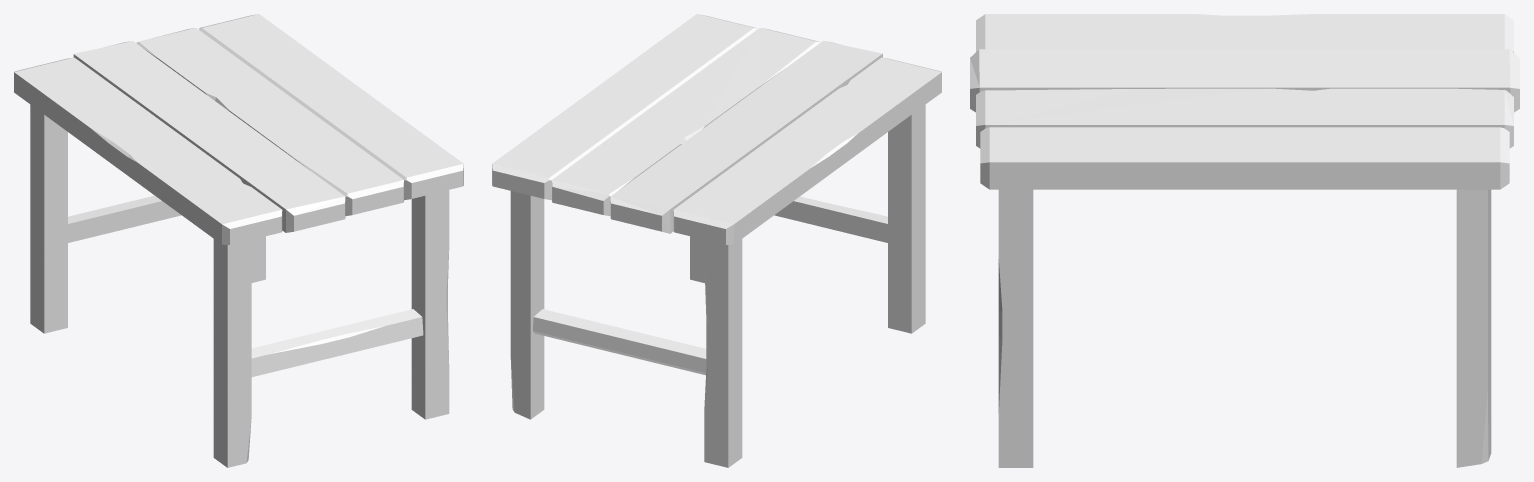
File: Prop_Wooden_Table_02.glb
The picture shows the model from 3 angles, left to right: view 1: azimuth 30°, elevation 25°; view 2: azimuth 150°, elevation 25°; view 3: azimuth 270°, elevation 25°; orthographic projection. The views are drawn at different scales.
Parts seen in each view (by area): view 1: Prop_Wooden_Table_02; view 2: Prop_Wooden_Table_02; view 3: Prop_Wooden_Table_02.
Part boxes in pixels (x1,y1,x2,y2): Prop_Wooden_Table_02: (14,14,463,467); Prop_Wooden_Table_02: (492,14,941,467); Prop_Wooden_Table_02: (970,14,1519,467).
Bounding box in the file's own units: 0.762 × 0.7532 × 1.19.
1 material, 1 textured.
